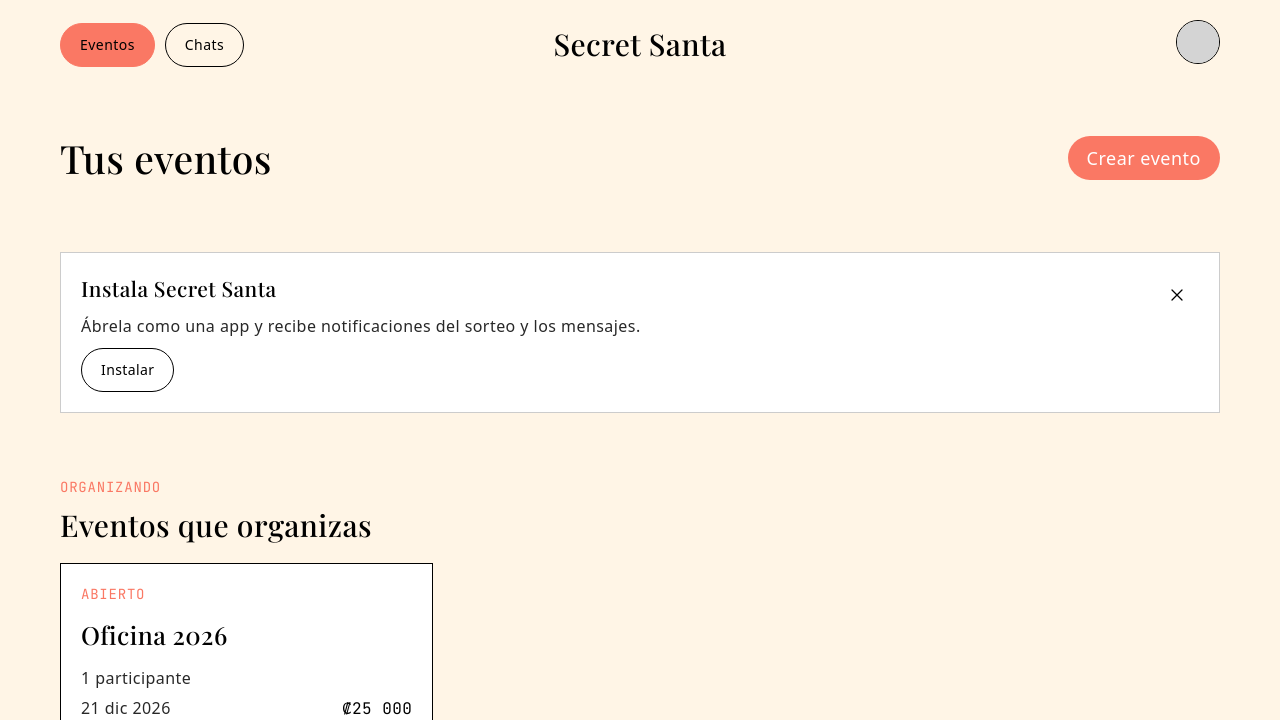
Dashboard install banner › dismiss is remembered on this device
Expected: the heading "Tus eventos" is shown, [60,129,272,188]
Click the button named "Ocultar sugerencia de instalación". click: (1177, 294)
box: [1155,272,1199,316]
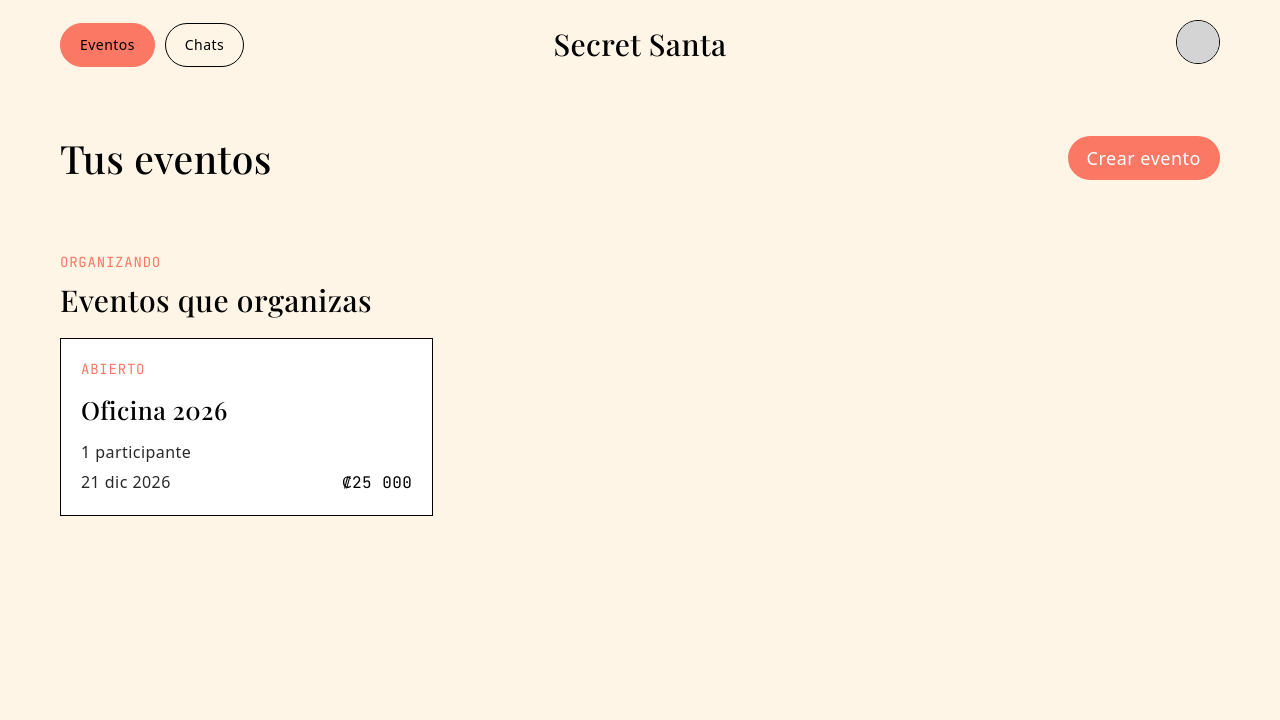
Expected: the heading "Instala Secret Santa" is gone
